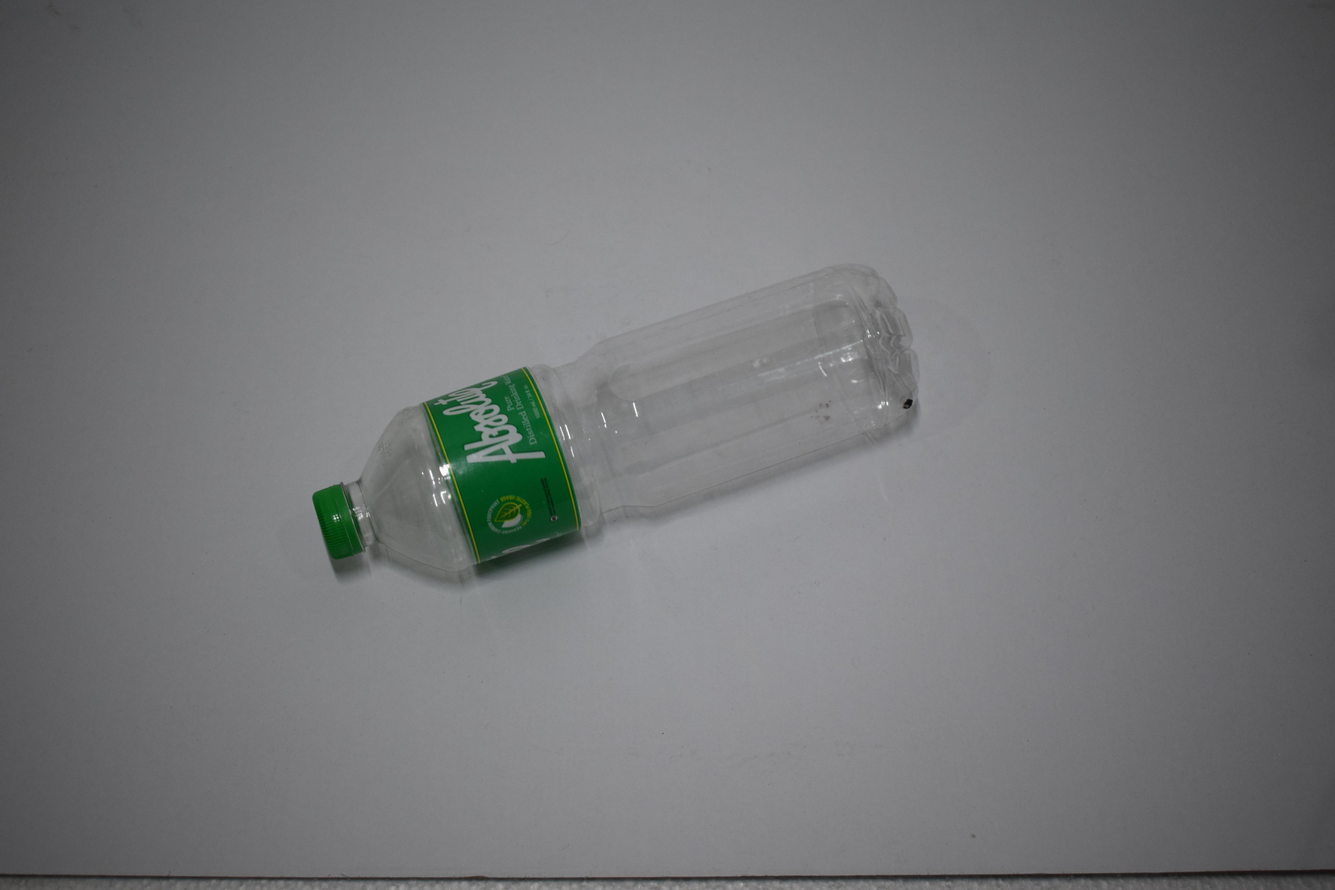plastic: (317, 265, 924, 589)
